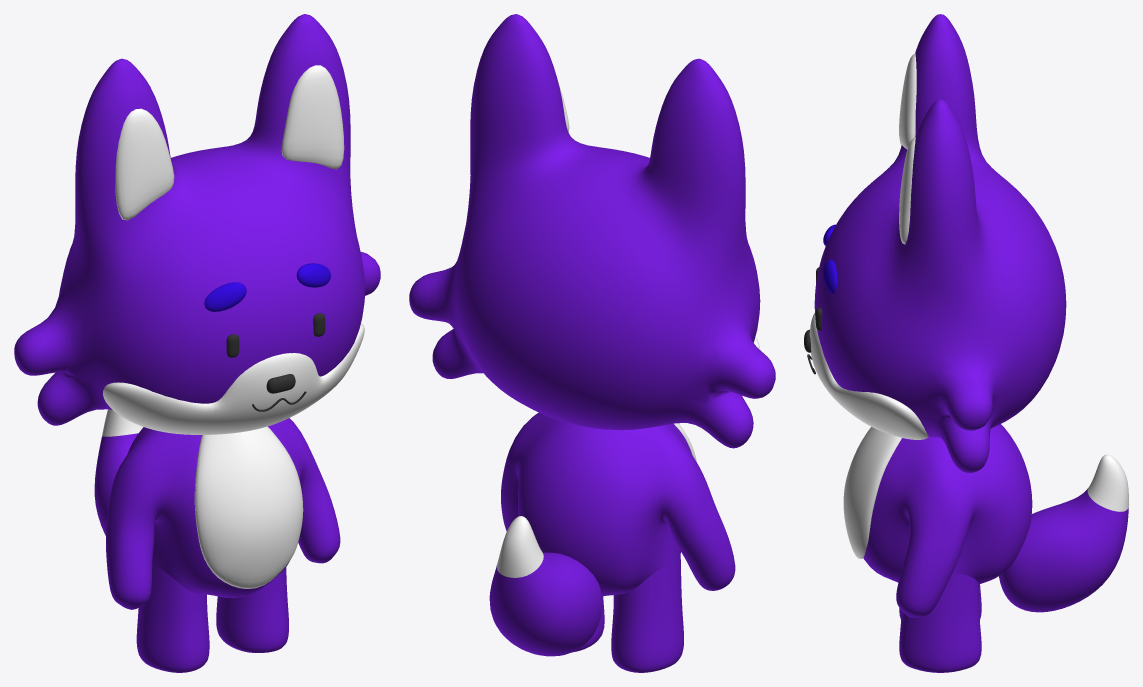
The model's file is character_blue.glb.
3 views of the same model, side by side, from view 1: azimuth 30°, elevation 25°; view 2: azimuth 150°, elevation 25°; view 3: azimuth 270°, elevation 25° (orthographic). The views are drawn at different scales.
Visible parts, largest first — view 1: Tete.003, corps.005, corps.006, Cube.011, oreille intérieur.002, Cube.015, Cube.013, Cube.012; view 2: Tete.003, corps.005, Cube.015; view 3: Tete.003, corps.005, Cube.015, corps.006, Cube.011, oreille intérieur.002, Cube.013.
Part boxes in pixels (box(x1,y1,x2,y2)): Tete.003: box(14, 14, 380, 425); corps.005: box(106, 418, 340, 672); corps.006: box(194, 426, 303, 588); Cube.011: box(103, 323, 364, 434); oreille intérieur.002: box(115, 65, 344, 220); Cube.015: box(94, 409, 143, 535); Cube.013: box(204, 263, 330, 311); Cube.012: box(226, 313, 325, 357); Tete.003: box(409, 14, 775, 448); corps.005: box(501, 412, 735, 672); Cube.015: box(489, 516, 602, 656); Tete.003: box(814, 14, 1066, 472); corps.005: box(863, 424, 1032, 672); Cube.015: box(999, 454, 1128, 612); corps.006: box(843, 427, 901, 558); Cube.011: box(809, 313, 928, 439); oreille intérieur.002: box(899, 53, 916, 244); Cube.013: box(823, 224, 837, 293).
Bounding box in the file's own units: 2.53 × 4.12 × 2.07.
